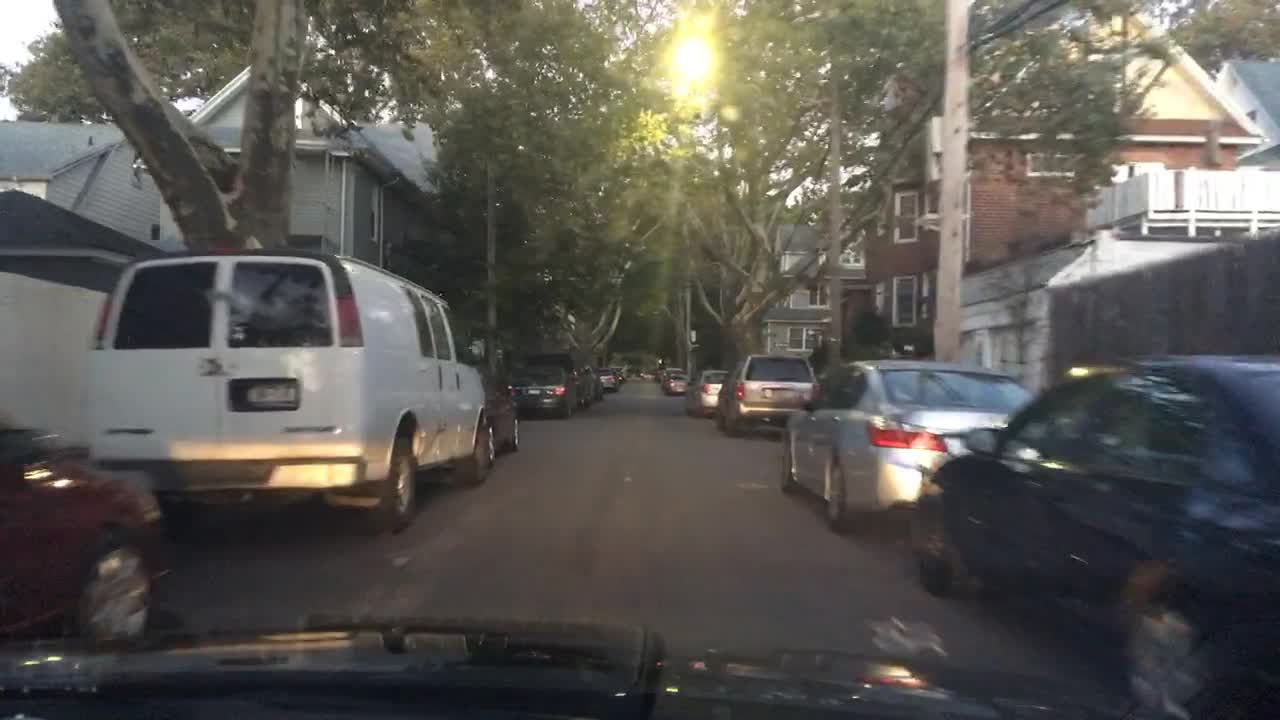car: (913, 354, 1279, 717), (74, 244, 492, 532), (779, 356, 1038, 533), (0, 419, 173, 643), (713, 354, 820, 433), (516, 351, 590, 412), (512, 364, 584, 419), (475, 378, 524, 455), (680, 367, 732, 414), (578, 365, 605, 403), (660, 369, 689, 391), (590, 368, 617, 390), (652, 367, 674, 384), (609, 365, 623, 383)
